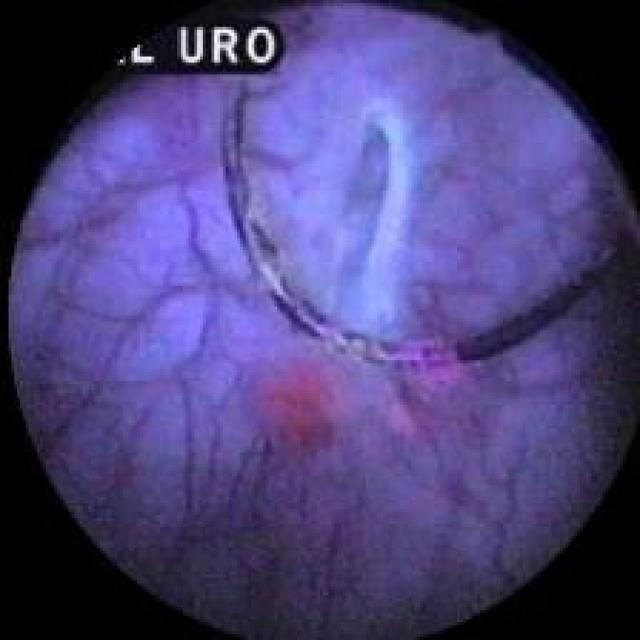color misalignment: (105, 19, 277, 81)
instrument: (222, 9, 637, 362)
